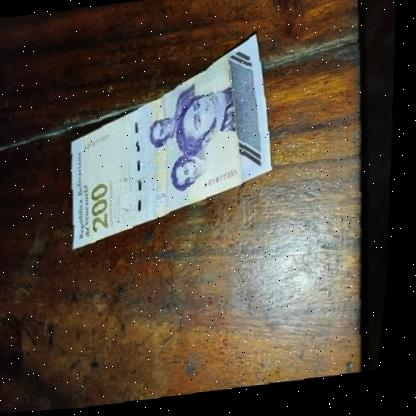two_hundred-front-vef: (62, 34, 290, 253)
